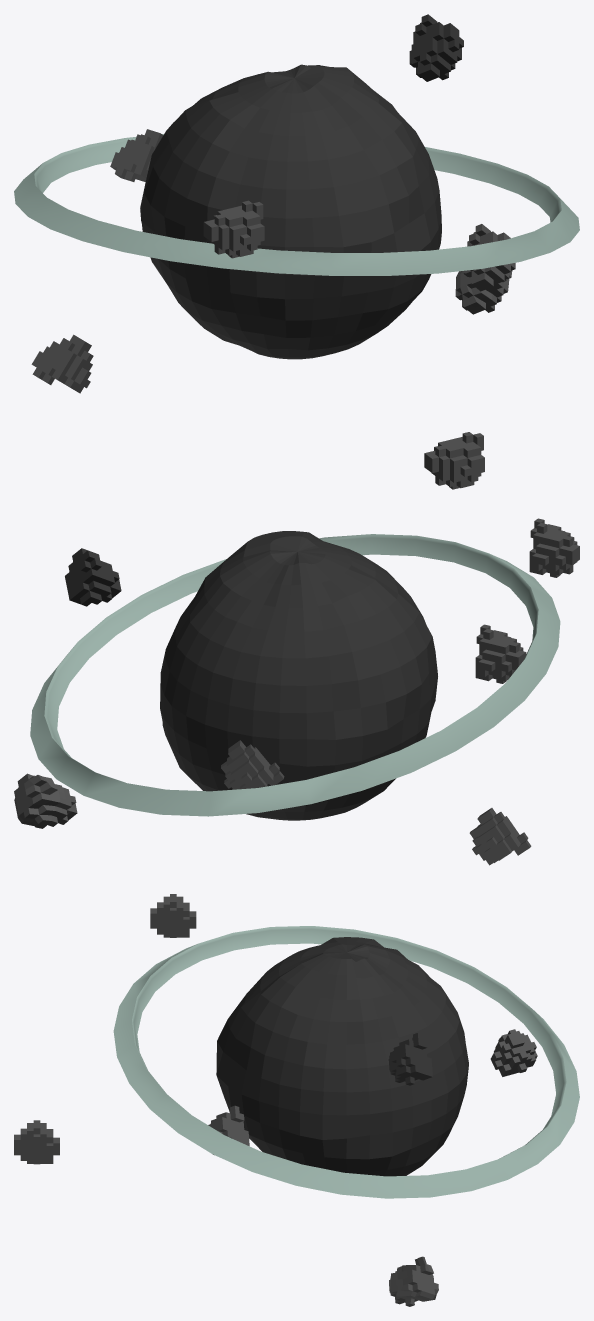
File: venus.glb
The picture shows the model from 3 angles, top to bottom: view 1: azimuth 30°, elevation 25°; view 2: azimuth 150°, elevation 25°; view 3: azimuth 270°, elevation 25°; orthographic projection. The views are drawn at different scales.
Parts seen in each view (by area): view 1: Sphere, Circle.001, Sphere.003, Sphere.001, Sphere.007, Sphere.006, Sphere.005, Sphere.002, Sphere.004; view 2: Sphere, Circle.001, Sphere.004, Sphere.003, Sphere.001, Sphere.007, Sphere.006, Sphere.005; view 3: Sphere, Circle.001, Sphere.004, Sphere.003, Sphere.001, Sphere.007, Sphere.005, Sphere.002.
Part boxes in pixels (box(x1,y1,x2,y2)): Sphere: box(140, 64, 441, 359); Circle.001: box(14, 134, 579, 275); Sphere.003: box(409, 14, 463, 81); Sphere.001: box(203, 200, 264, 258); Sphere.007: box(424, 432, 484, 489); Sphere.006: box(31, 334, 93, 393); Sphere.005: box(110, 129, 163, 181); Sphere.002: box(463, 224, 515, 291); Sphere.004: box(455, 270, 512, 314); Sphere: box(160, 531, 437, 820); Circle.001: box(30, 534, 560, 816); Sphere.004: box(14, 773, 77, 828); Sphere.003: box(65, 548, 121, 606); Sphere.001: box(529, 518, 579, 577); Sphere.007: box(475, 624, 526, 683); Sphere.006: box(469, 808, 531, 865); Sphere.005: box(221, 740, 284, 789); Sphere: box(216, 937, 468, 1176); Circle.001: box(113, 926, 579, 1198); Sphere.004: box(389, 1256, 438, 1306); Sphere.003: box(388, 1033, 432, 1085); Sphere.001: box(150, 894, 196, 937); Sphere.007: box(14, 1120, 59, 1164); Sphere.005: box(490, 1029, 537, 1076); Sphere.002: box(208, 1105, 249, 1154).
Bounding box in the file's own units: 23.67 × 14.18 × 27.52.
